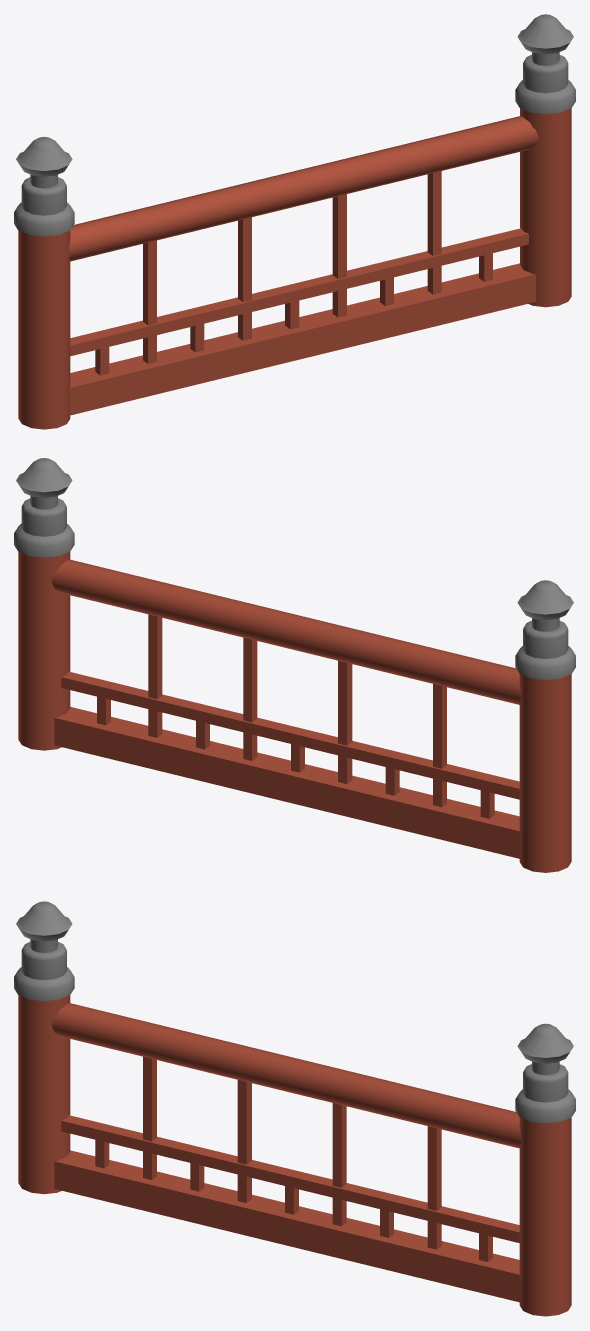
The model's file is SM_fence_temple.fbx.
3 views of the same model, one above another, from view 1: azimuth 30°, elevation 25°; view 2: azimuth 150°, elevation 25°; view 3: azimuth 330°, elevation 25° (orthographic).
Parts seen in each view (by area): view 1: Box104; view 2: Box104; view 3: Box104.
Part boxes in pixels (x1=…): Box104: x1=14, y1=14, x2=575, y2=429; Box104: x1=14, y1=458, x2=575, y2=872; Box104: x1=14, y1=901, x2=575, y2=1316.
Size of the model in its own units: 126 by 60.7 by 12.
